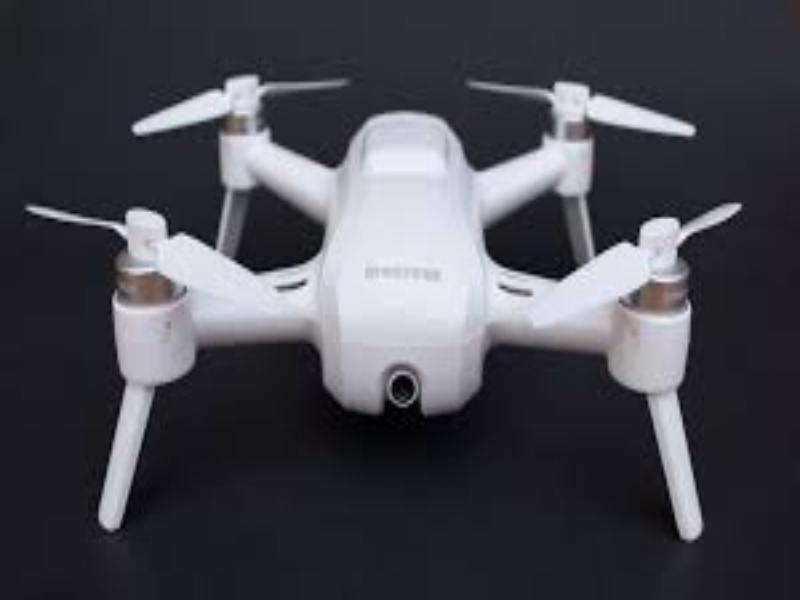drone: (54, 60, 740, 545)
